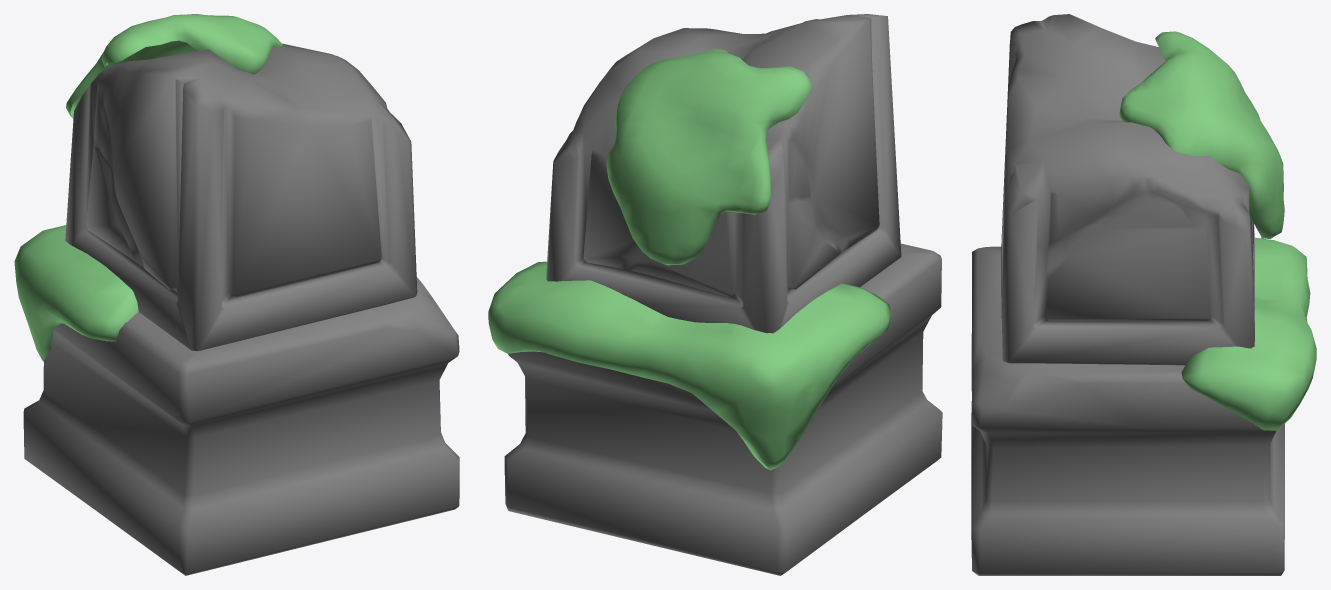
File: Pillar_broken_moss.fbx
3 views of the same model, side by side, from view 1: azimuth 30°, elevation 25°; view 2: azimuth 150°, elevation 25°; view 3: azimuth 270°, elevation 25° (orthographic). The views are drawn at different scales.
Parts seen in each view (by area): view 1: Pillar_broken, moss; view 2: Pillar_broken, moss; view 3: Pillar_broken, moss.
Boxes of the visible parts, x1,y1,x2,y2 form: Pillar_broken: [23, 43, 459, 575]; moss: [14, 14, 283, 361]; Pillar_broken: [504, 14, 942, 575]; moss: [488, 48, 891, 470]; Pillar_broken: [971, 14, 1284, 575]; moss: [1119, 31, 1316, 430].
Size of the model in its own units: 131 by 180 by 126.
